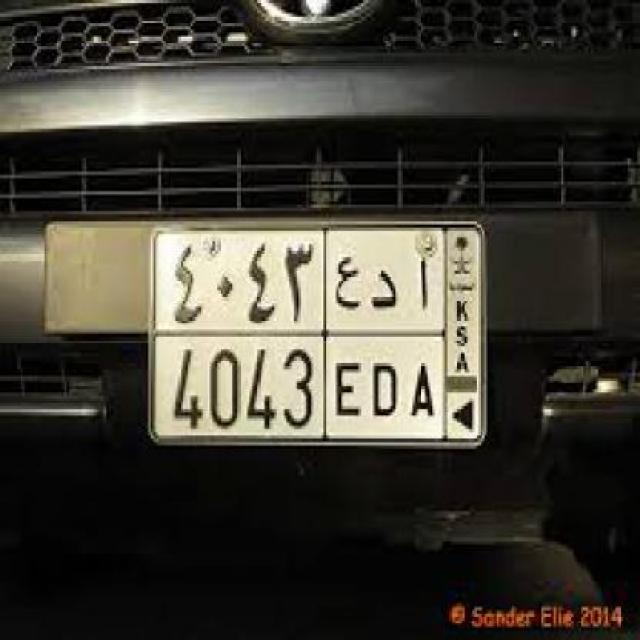license_plate: (146, 214, 492, 455)
